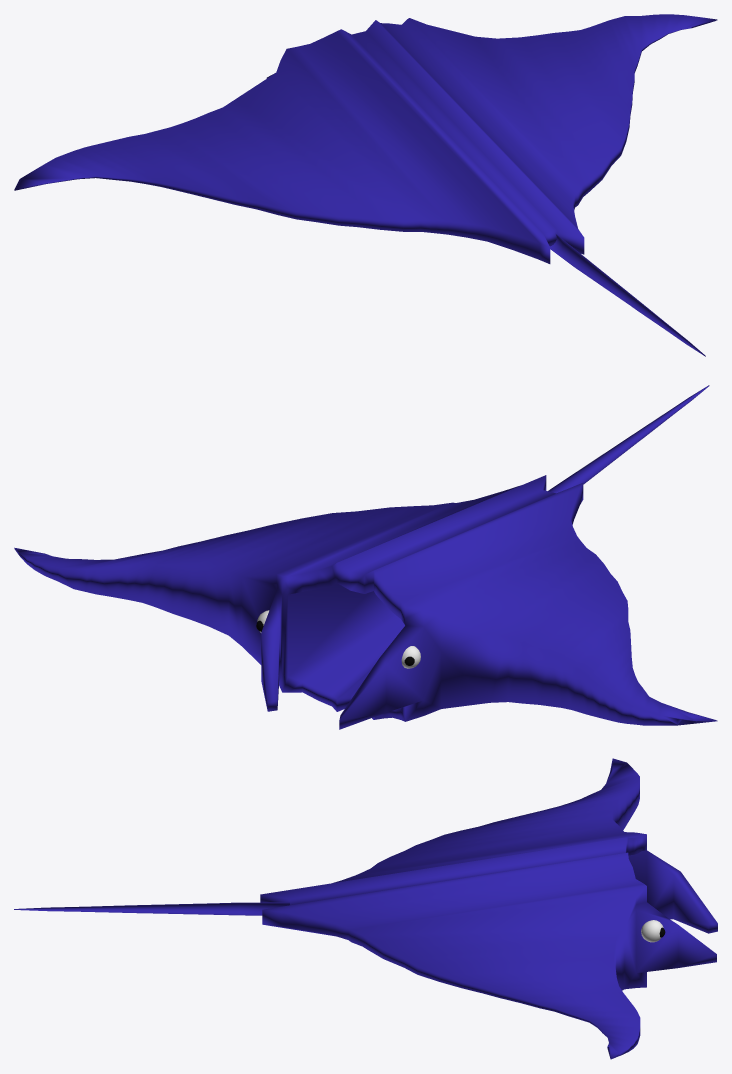
Rendered from RaieManta.dae.
The picture shows the model from 3 angles, top to bottom: view 1: azimuth 30°, elevation 25°; view 2: azimuth 150°, elevation 25°; view 3: azimuth 270°, elevation 25°; orthographic projection. The views are drawn at different scales.
Visible parts, largest first — view 1: RaieManta; view 2: RaieManta; view 3: RaieManta.
Part boxes in pixels (x1,y1,x2,y2): RaieManta: (14, 14, 717, 356); RaieManta: (14, 385, 717, 729); RaieManta: (14, 758, 717, 1059).
Size of the model in its own units: 7.92 by 7.84 by 1.61.
